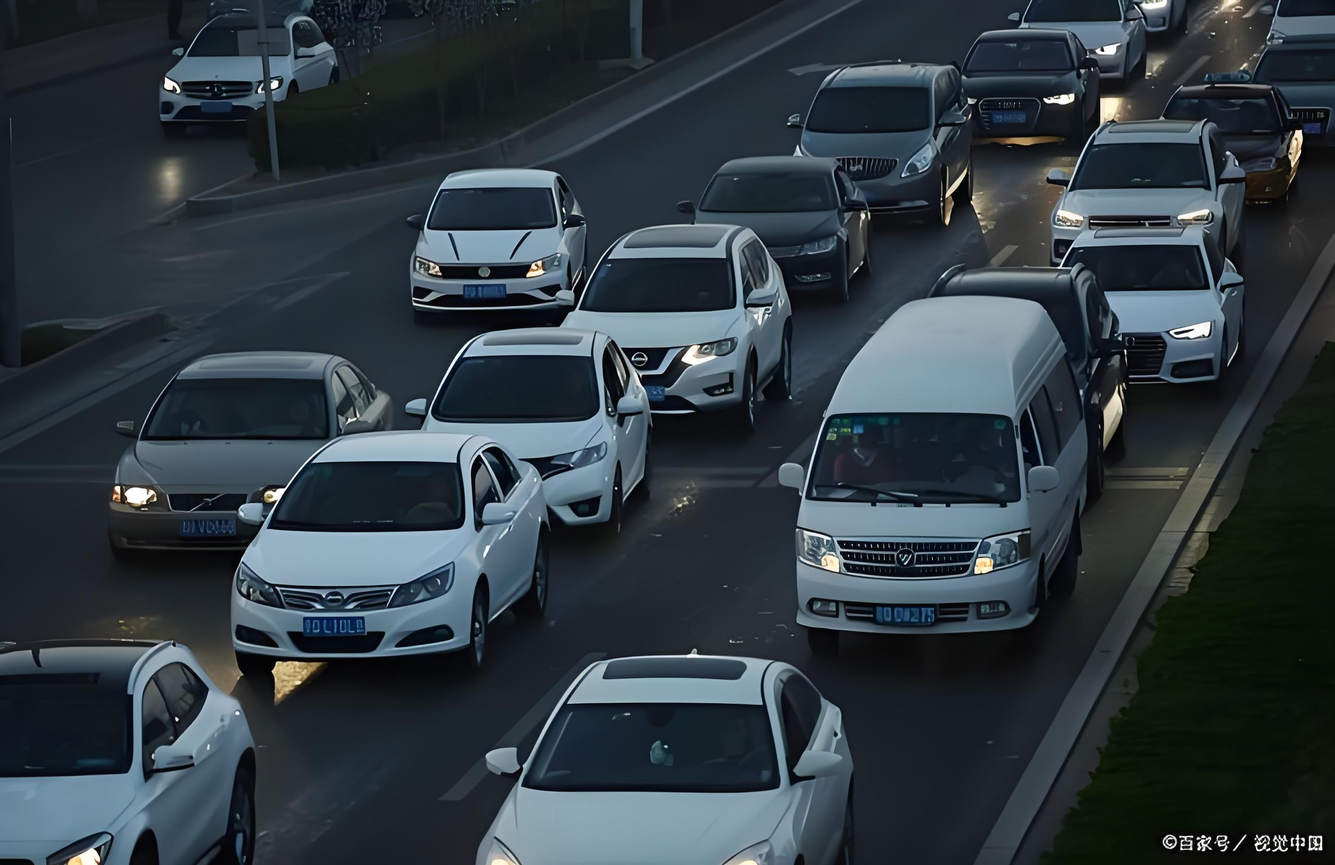car: (792, 282, 1125, 648), (451, 651, 858, 860), (231, 442, 535, 671), (102, 344, 379, 564), (11, 624, 262, 865), (418, 329, 644, 543), (553, 228, 782, 431), (1053, 144, 1250, 372), (755, 80, 978, 243), (685, 134, 905, 275), (1078, 100, 1244, 246), (408, 188, 579, 321), (160, 6, 341, 125), (964, 11, 1103, 162), (1154, 71, 1302, 203)
